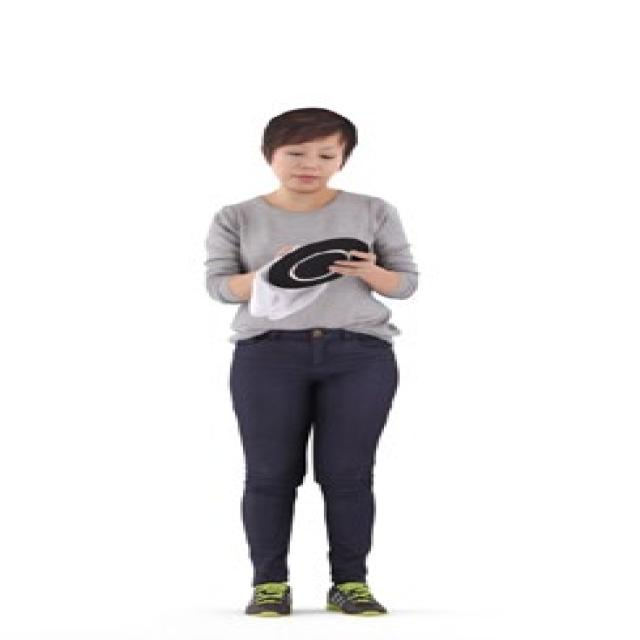standing: (200, 108, 430, 622)
